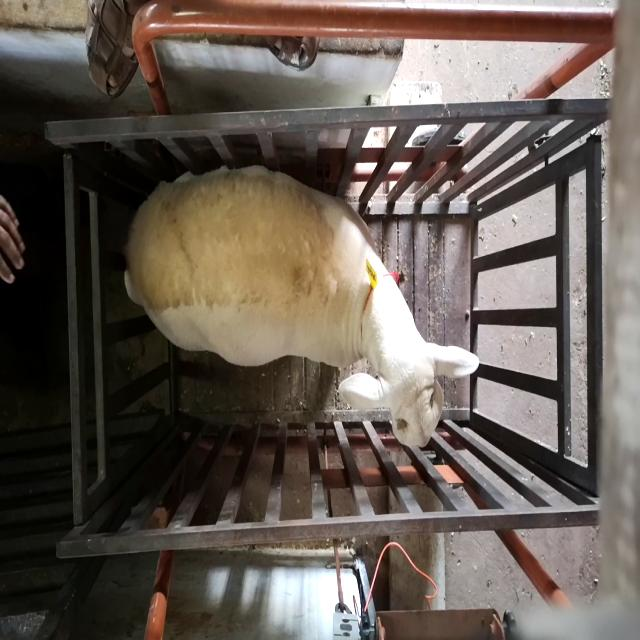sheep: (123, 165, 480, 449)
